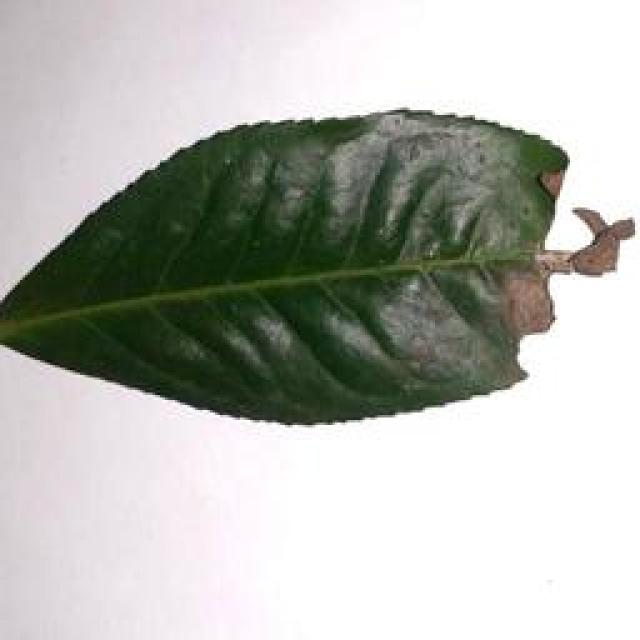Brown Blight: (0, 116, 639, 440)
